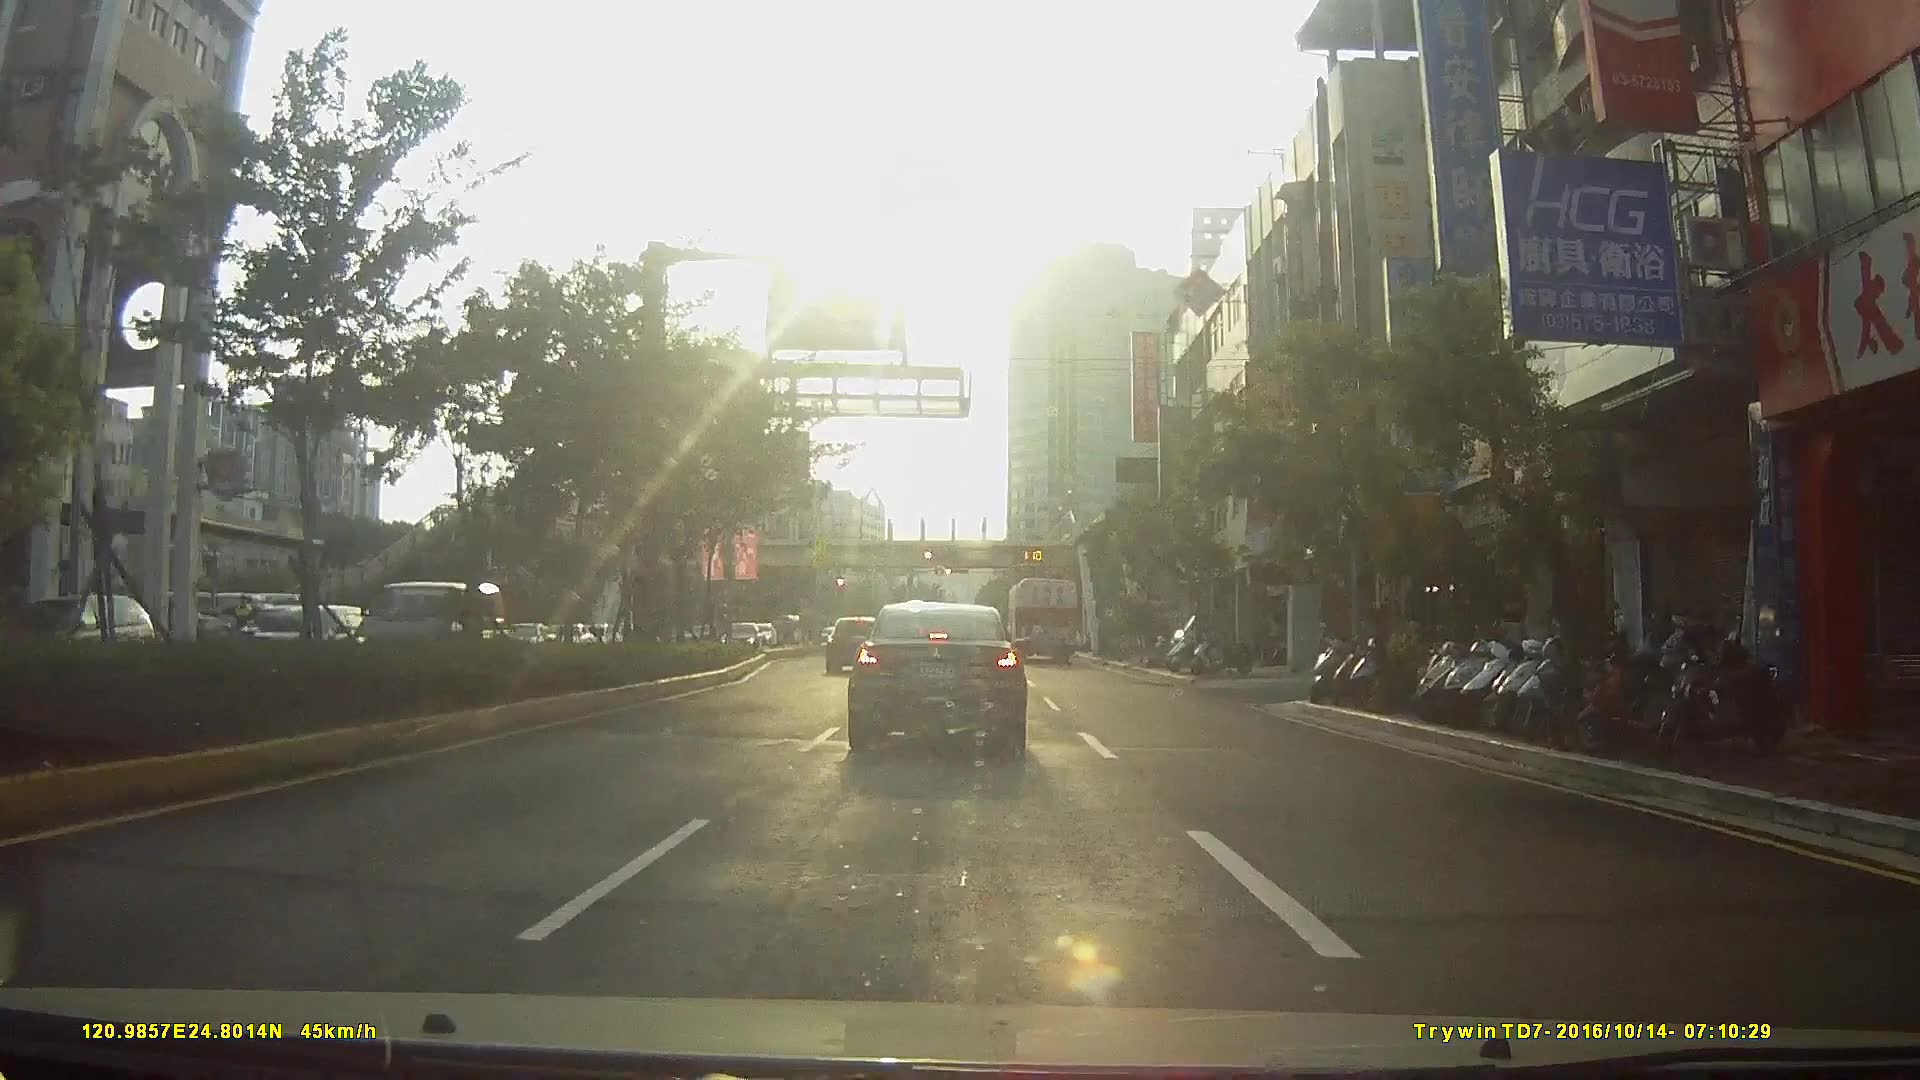vehicle: (845, 597, 1027, 760), (345, 578, 505, 687), (11, 592, 148, 671), (1004, 574, 1080, 663), (822, 611, 886, 673), (715, 618, 760, 655)
